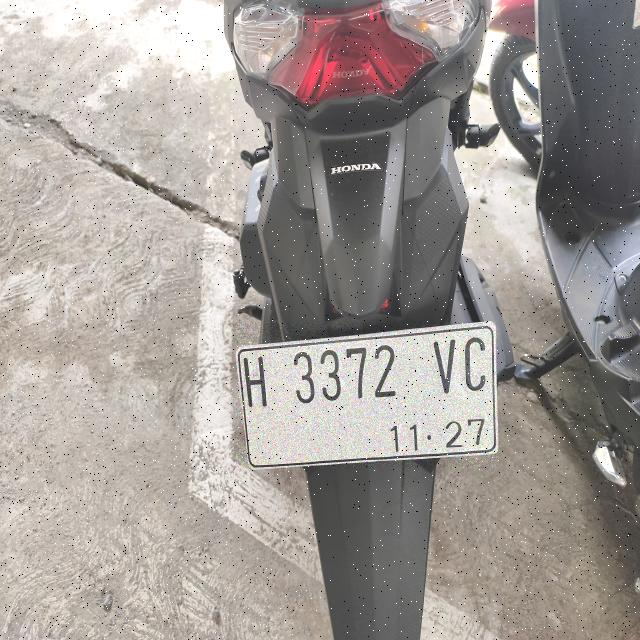plate: (237, 323, 497, 467)
